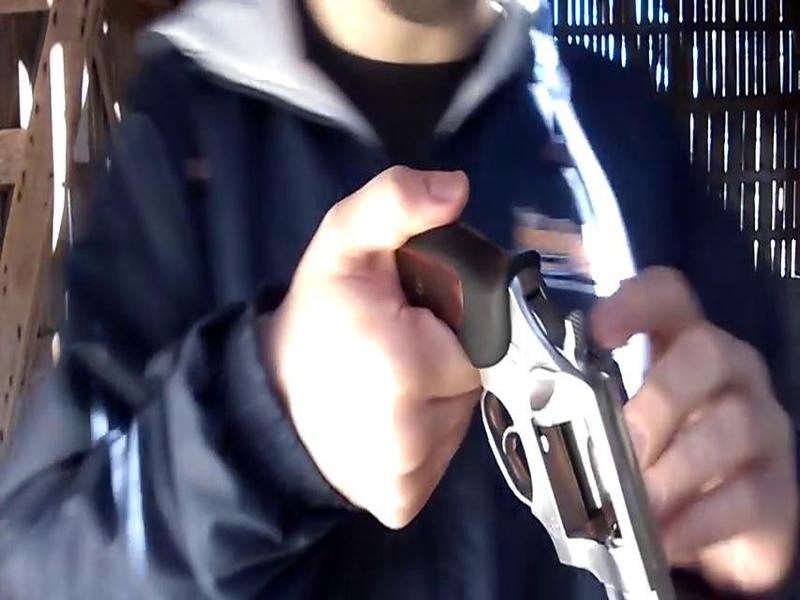Revolver: (360, 164, 698, 600)
